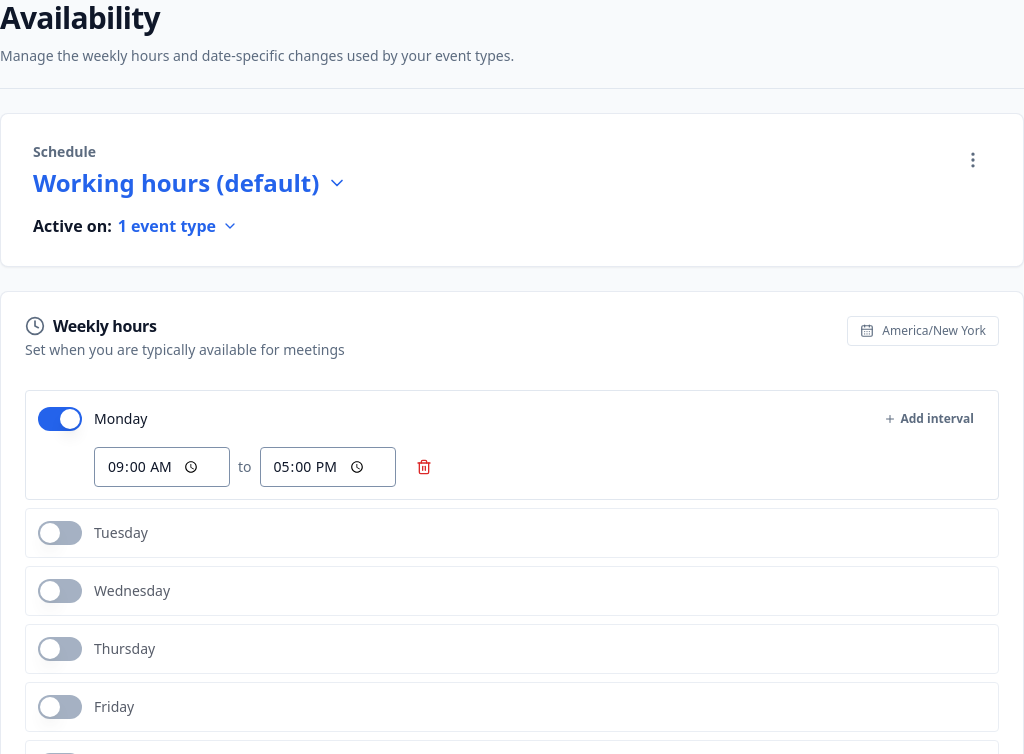
Test: AvailabilityClient › opens action menu dialogs with blocked delete state for default schedules
This screenshot has width=1024, height=754.
Press the mouse on the button named "Schedule actions" at (973,160), box left=955, top=142, right=991, bottom=178
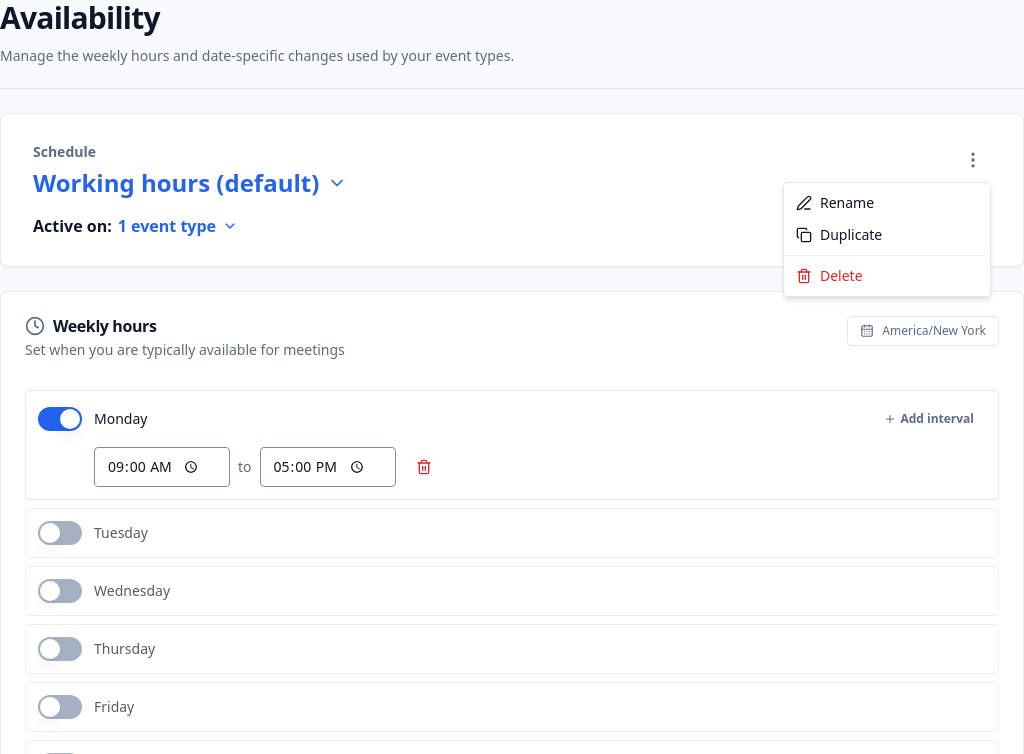
Check: the menu item "Rename" is shown, box left=796, top=193, right=874, bottom=212
Check: the menu item "Duplicate" is shown, box left=796, top=225, right=882, bottom=244
Check: the menu item "Delete" is shown
Click the menu item "Delete" at (829,276), box left=796, top=266, right=863, bottom=285
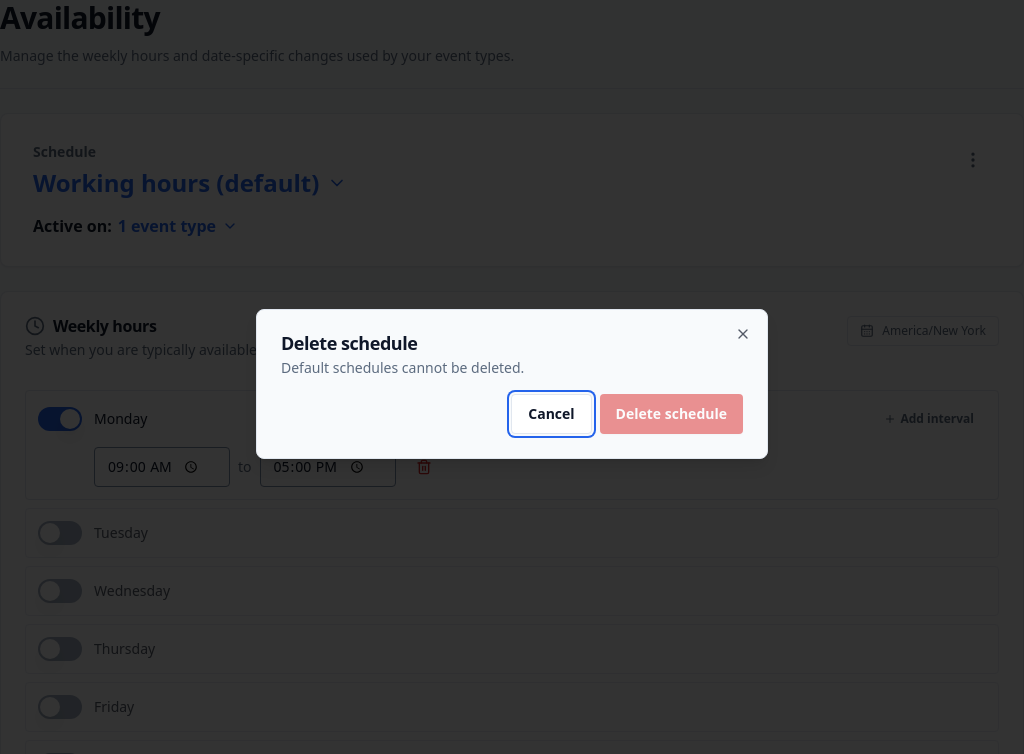
Check: the text "Default schedules cannot be deleted." is shown, box left=281, top=358, right=524, bottom=377
Check: the button "Delete schedule" is disabled, box left=600, top=394, right=743, bottom=434
